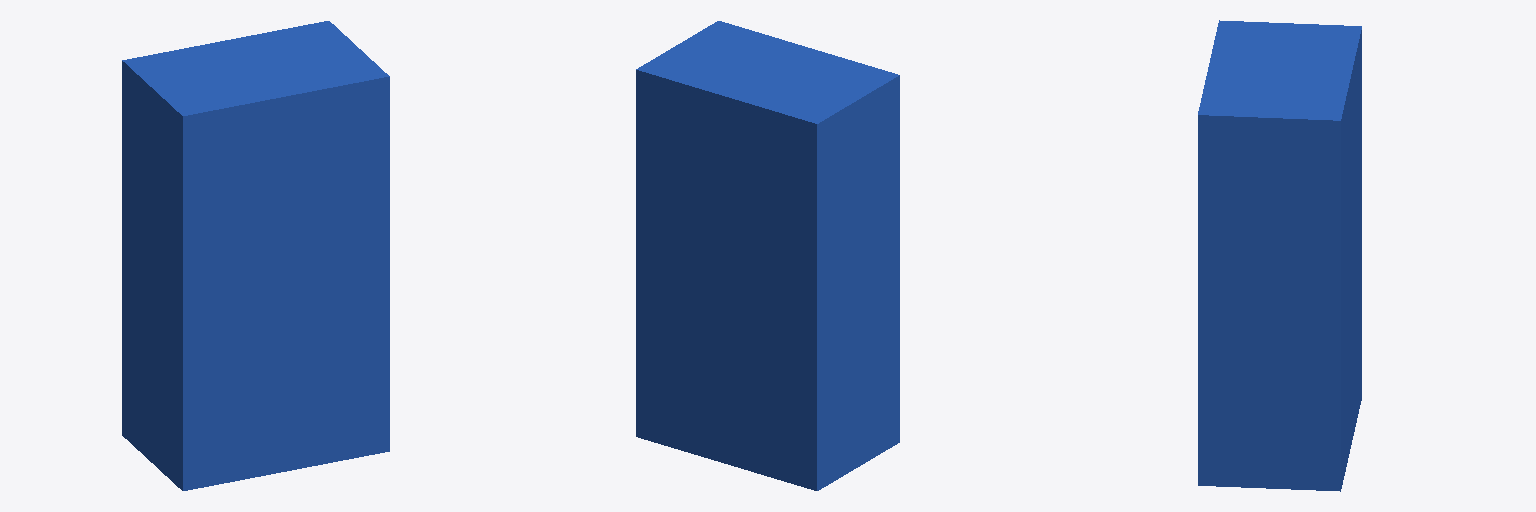
URDF robot description (Domino_19):
<robot name="Domino_19" version="1.0">
  <link name="Domino_19_link">
    <collision name="Cube.018_collision">
      <origin rpy="0.00000 0.00000 1.47573" xyz="-1.05195 0.83821 0.25000"/>
      <geometry>
        <box size="0.17598 0.27481 0.50000"/>
      </geometry>
    </collision>
    <inertial>
      <inertia ixx="0.00234" ixy="0.00004" ixz="0.00000" iyy="0.00271" iyz="0.00000" izz="0.00089"/>
      <origin rpy="0.00000 0.00000 0.00000" xyz="-1.05195 0.83821 0.25000"/>
      <mass value="0.10000"/>
    </inertial>
    <visual name="Cube.018">
      <material name="turnarrow"/>
      <origin rpy="0.00000 0.00000 1.47573" xyz="-1.05195 0.83821 0.25000"/>
      <geometry>
        <box size="0.17598 0.27481 0.50000"/>
      </geometry>
    </visual>
  </link>
  <material name="turnarrow">
    <color rgba="0.23137 0.44706 0.80000 1.00000"/>
  </material>
</robot>

--- Facts derived from the render (not from the file) ---
The picture shows the robot from 3 angles, left to right: view 1: azimuth 30°, elevation 25°; view 2: azimuth 150°, elevation 25°; view 3: azimuth 270°, elevation 25°; orthographic projection.
Robot: Domino_19 — 1 links, 0 joints (none); root link Domino_19_link; default pose: all joints at 0.
Visible links, largest first — view 1: Domino_19_link; view 2: Domino_19_link; view 3: Domino_19_link.
Boxes of the visible links, box(x1,y1,x2,y2) form: Domino_19_link: box(122, 21, 389, 490); Domino_19_link: box(636, 21, 899, 490); Domino_19_link: box(1198, 20, 1361, 491).
Bounding box of the posed robot: 0.2903 × 0.2013 × 0.5 m (x, y, z).
Geometry: primitives only (box / cylinder / sphere), no mesh files.